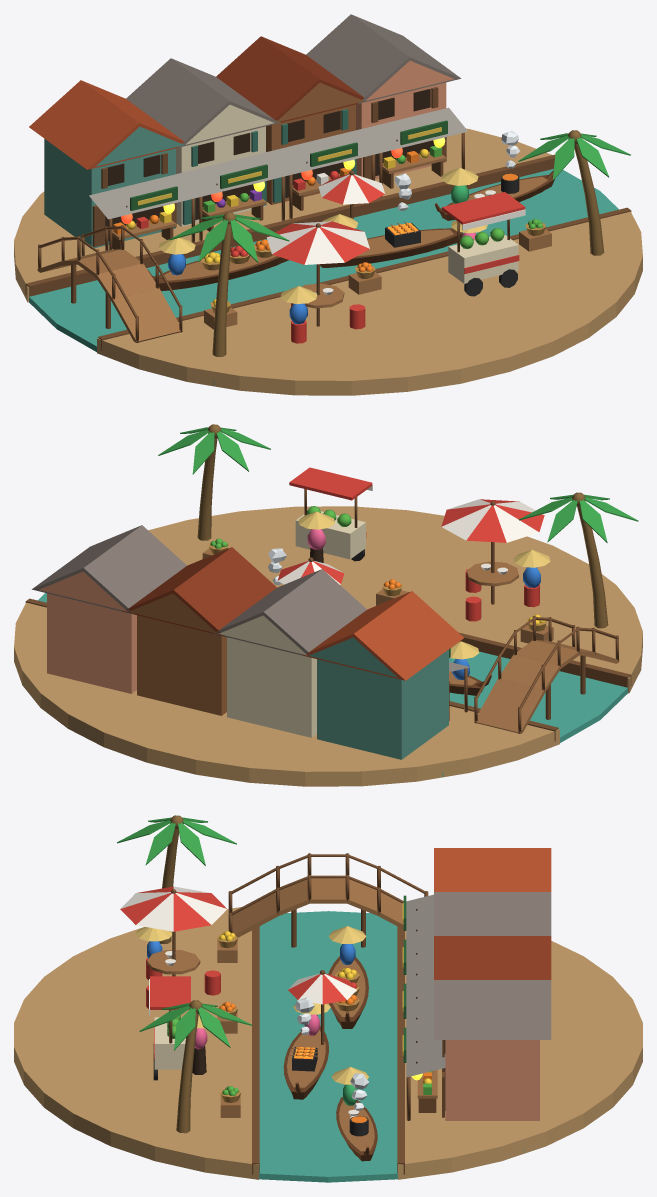
The model's file is loc_amphawa.glb.
The picture shows the model from 3 angles, top to bottom: view 1: azimuth 30°, elevation 25°; view 2: azimuth 150°, elevation 25°; view 3: azimuth 270°, elevation 25°; orthographic projection.
Parts seen in each view (by area): view 1: Body_Bank, Body_Water, Body_PlankDark, Body_RoofGrey, Body_Plank, Body_Tin, Body_WallTeal, Body_Roof, Body_Red, Body_RoofDark, Body_WallCream, Body_Interior (+17 smaller); view 2: Body_Bank, Body_WallTeal, Body_RoofGrey, Body_WallCream, Body_WallBrown, Body_WallSalmon, Body_Plank, Body_Roof, Body_RoofDark, Body_PlankDark, Body_Water, Body_Red (+5 smaller); view 3: Body_Bank, Body_Water, Body_RoofGrey, Body_Plank, Body_WallSalmon, Body_PlankDark, Body_Tin, Body_Roof, Body_RoofDark, Body_Red, Body_Palm, Body_White (+8 smaller).
Boxes of the visible parts, <box> form: Body_Bank: <box>14,128,642,395</box>; Body_Water: <box>29,169,618,385</box>; Body_PlankDark: <box>25,87,631,350</box>; Body_RoofGrey: <box>126,14,460,147</box>; Body_Plank: <box>37,151,551,342</box>; Body_Tin: <box>89,107,467,219</box>; Body_WallTeal: <box>44,126,183,248</box>; Body_Roof: <box>29,80,184,169</box>; Body_Red: <box>136,171,525,343</box>; Body_RoofDark: <box>216,36,364,122</box>; Body_WallCream: <box>176,104,518,283</box>; Body_Interior: <box>105,89,434,241</box>; Body_Bank: <box>14,506,642,786</box>; Body_WallTeal: <box>309,637,448,759</box>; Body_RoofGrey: <box>32,525,366,657</box>; Body_WallCream: <box>219,511,365,737</box>; Body_WallBrown: <box>129,593,226,715</box>; Body_WallSalmon: <box>39,571,136,693</box>; Body_Plank: <box>202,548,619,733</box>; Body_Roof: <box>302,591,463,680</box>; Body_RoofDark: <box>122,547,276,636</box>; Body_PlankDark: <box>25,489,631,741</box>; Body_Water: <box>38,593,627,776</box>; Body_Red: <box>277,467,544,621</box>; Body_Bank: <box>14,907,642,1179</box>; Body_Water: <box>132,911,524,1182</box>; Body_RoofGrey: <box>434,892,551,1039</box>; Body_Plank: <box>147,878,437,1151</box>; Body_WallSalmon: <box>445,1040,539,1120</box>; Body_PlankDark: <box>169,853,444,1174</box>; Body_Tin: <box>406,894,445,1077</box>; Body_Roof: <box>434,848,551,891</box>; Body_RoofDark: <box>434,936,551,979</box>; Body_Red: <box>120,886,357,1059</box>; Body_Palm: <box>117,817,252,1050</box>; Body_White: <box>120,886,359,1118</box>.
Bounding box in the file's own units: 9.96 × 2.6 × 9.96.
